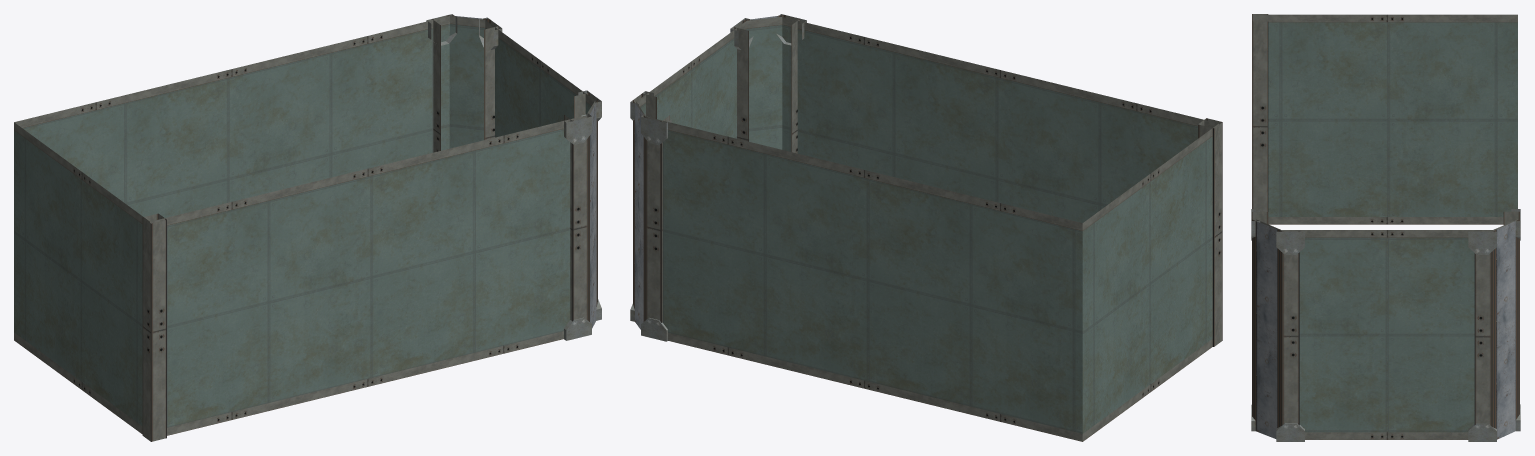
File: Ob_Building1Wall_RC.fbx
3 views of the same model, side by side, from view 1: azimuth 30°, elevation 25°; view 2: azimuth 150°, elevation 25°; view 3: azimuth 270°, elevation 25° (orthographic). The views are drawn at different scales.
Parts seen in each view (by area): view 1: Ob_Building1Wall_RC; view 2: Ob_Building1Wall_RC; view 3: Ob_Building1Wall_RC.
Boxes of the visible parts, x1,y1,x2,y2 form: Ob_Building1Wall_RC: (14, 14, 601, 441); Ob_Building1Wall_RC: (630, 14, 1222, 441); Ob_Building1Wall_RC: (1251, 14, 1520, 441).
Bounding box in the file's own units: 3133 × 1410 × 1638.
